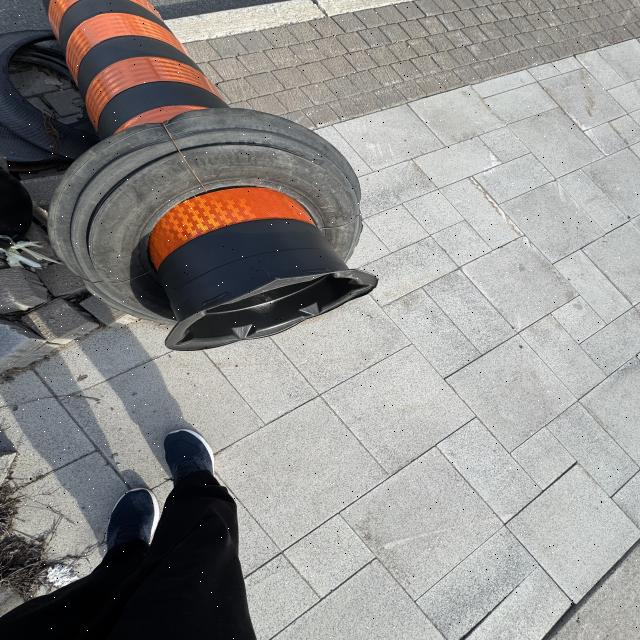Teraffic Barrel: (48, 0, 377, 350)
